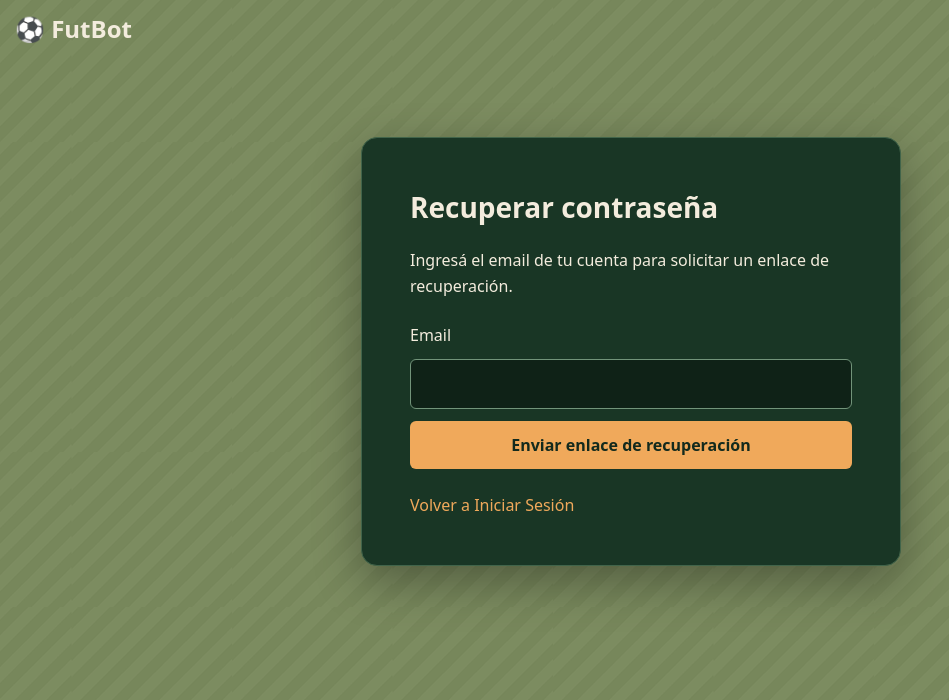
Scenario: Solicitud de recuperación › no muestra una confirmación falsa ante un error del servidor
Type "user@example.com" into the field labelled "Email" at (631, 384), box [410,359,852,409]
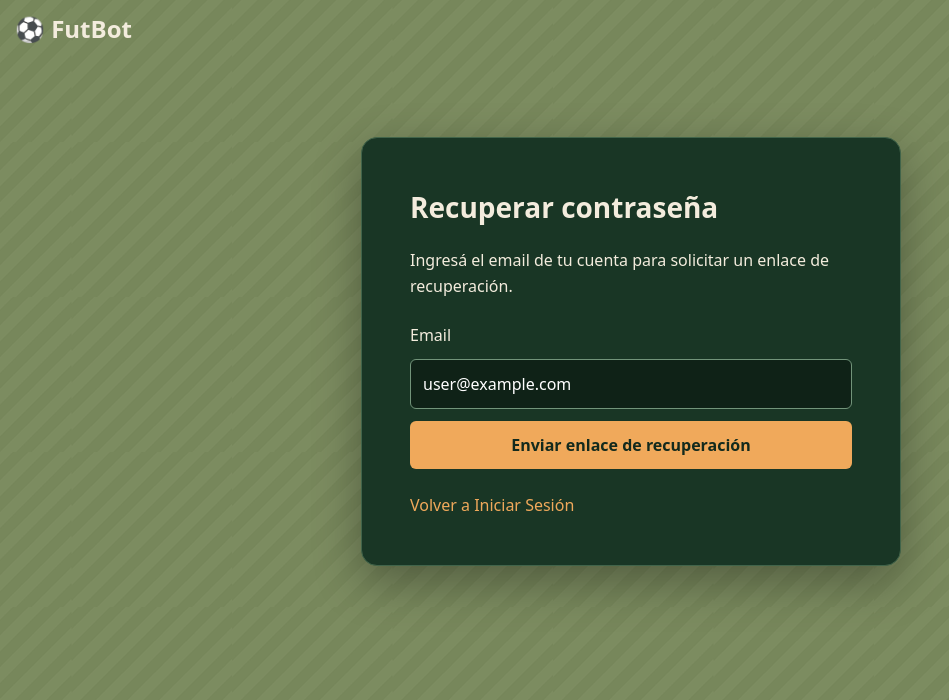
Click the button "Enviar enlace de recuperación" at (631, 445), box [410,421,852,469]
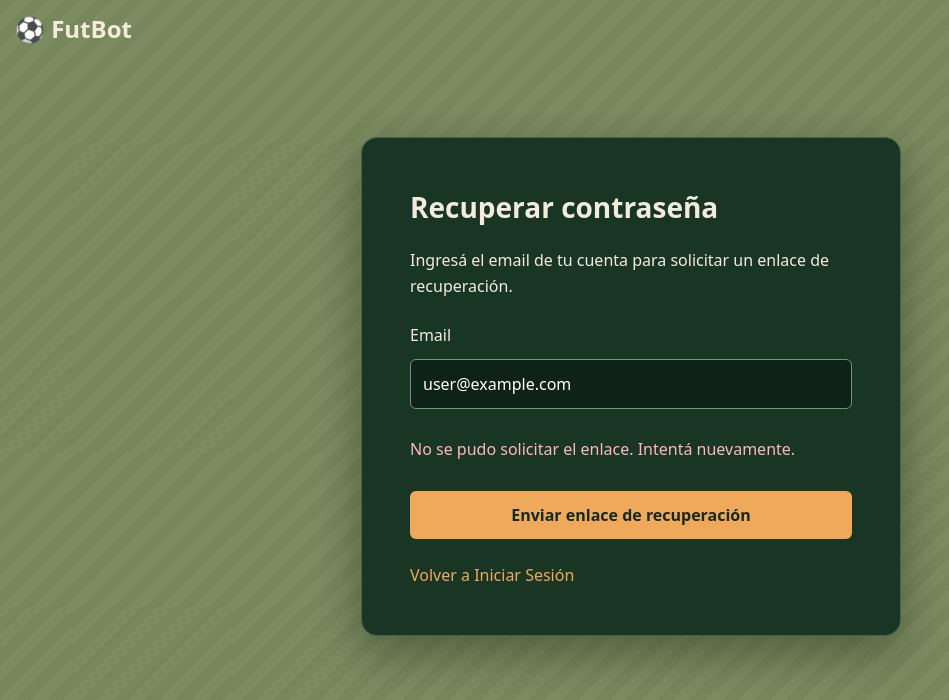
Check: the message shows "No se pudo solicitar el enlace", box [410,438,795,460]
